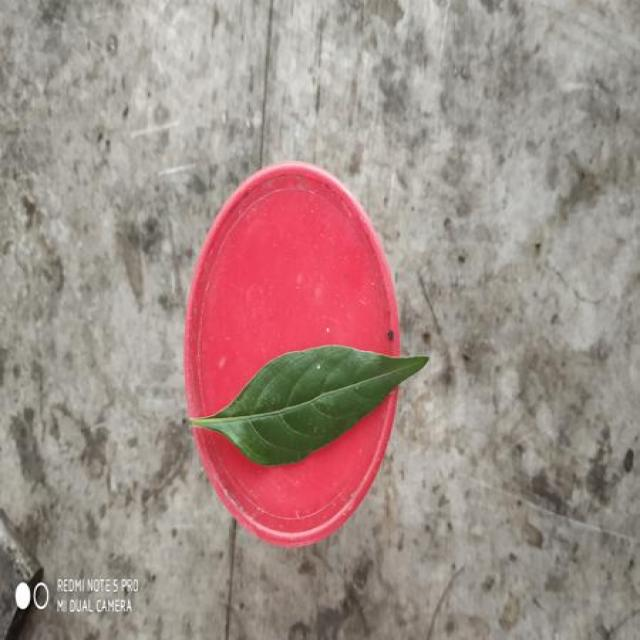Nelavembu: (190, 345, 428, 466)
